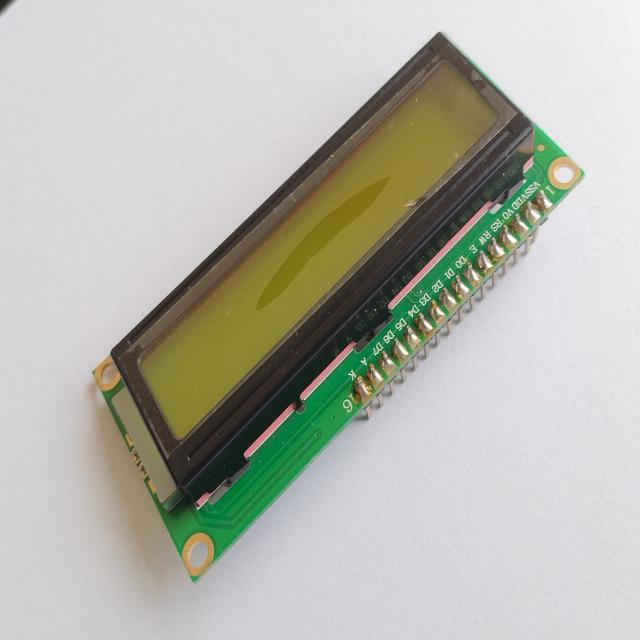lcd: (87, 28, 593, 590)
